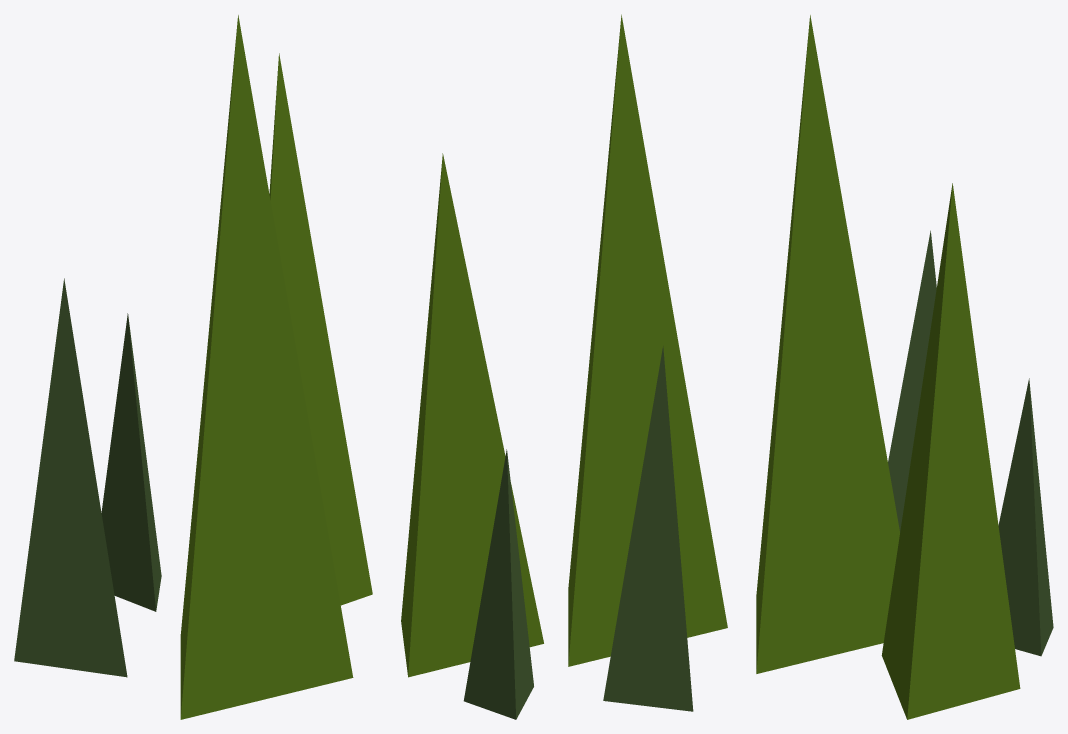
Rendered from Gras.fbx.
3 renders of one model, left to right at view 1: azimuth 30°, elevation 25°; view 2: azimuth 150°, elevation 25°; view 3: azimuth 270°, elevation 25°, orthographic. The views are drawn at different scales.
Parts seen in each view (by area): view 1: Cone, Cone.001, Cone.002, Cone.003; view 2: Cone, Cone.002, Cone.001, Cone.003; view 3: Cone, Cone.002, Cone.003, Cone.001.
Boxes of the visible parts, bbox=[...] form: Cone: bbox=[180, 15, 353, 719]; Cone.001: bbox=[14, 278, 127, 677]; Cone.002: bbox=[269, 53, 372, 605]; Cone.003: bbox=[101, 313, 161, 611]; Cone: bbox=[568, 14, 727, 666]; Cone.002: bbox=[401, 153, 543, 677]; Cone.001: bbox=[603, 346, 693, 711]; Cone.003: bbox=[463, 449, 533, 719]; Cone: bbox=[756, 15, 899, 673]; Cone.002: bbox=[881, 183, 1020, 719]; Cone.003: bbox=[998, 378, 1053, 656]; Cone.001: bbox=[888, 230, 936, 532].
Bounding box in the file's own units: 106 × 200 × 86.77.
